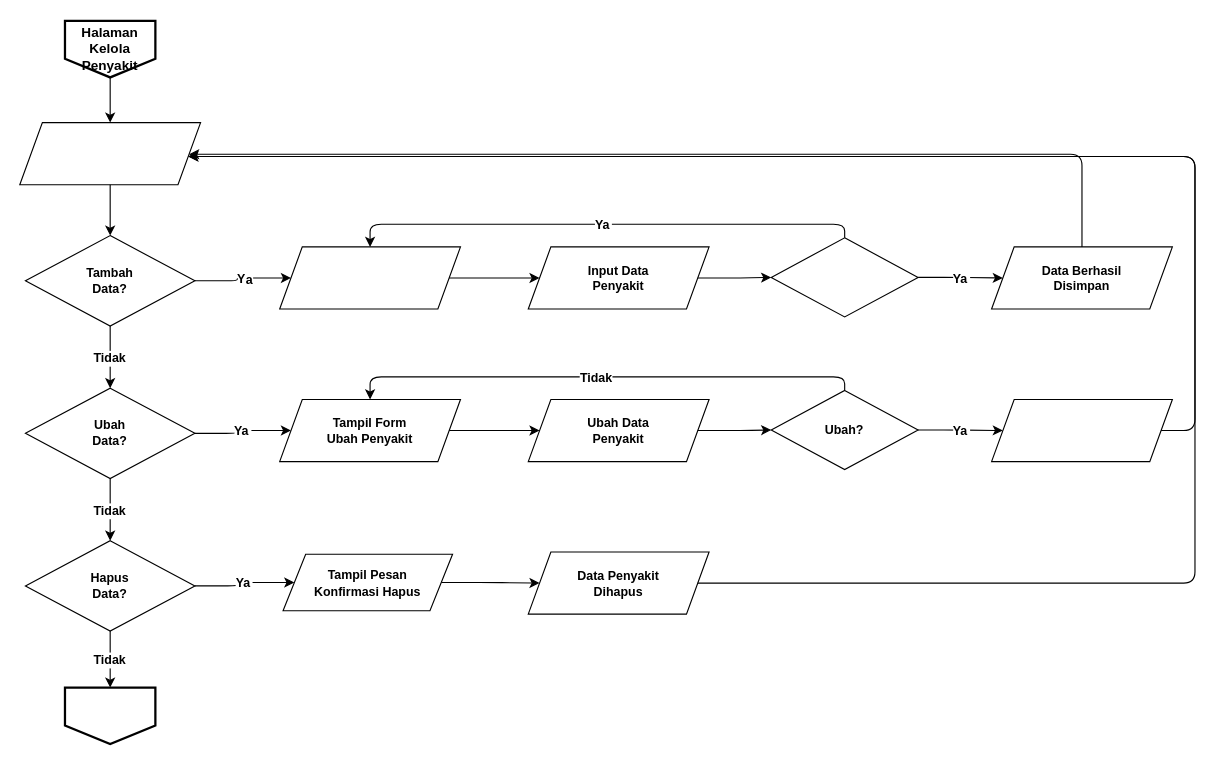
The diagram is 1224 pixels wide and 764 high, and some of its shapes have lost their labels. Each missing label, with the box of its shape:
Dashboard: (63, 686, 156, 745)
Data Berhasil Diubah: (990, 398, 1172, 462)
Simpan?: (770, 237, 918, 317)
Tampil Data Penyakit: (19, 121, 201, 185)
Tampil Form Tambah Penyakit: (279, 246, 460, 309)
